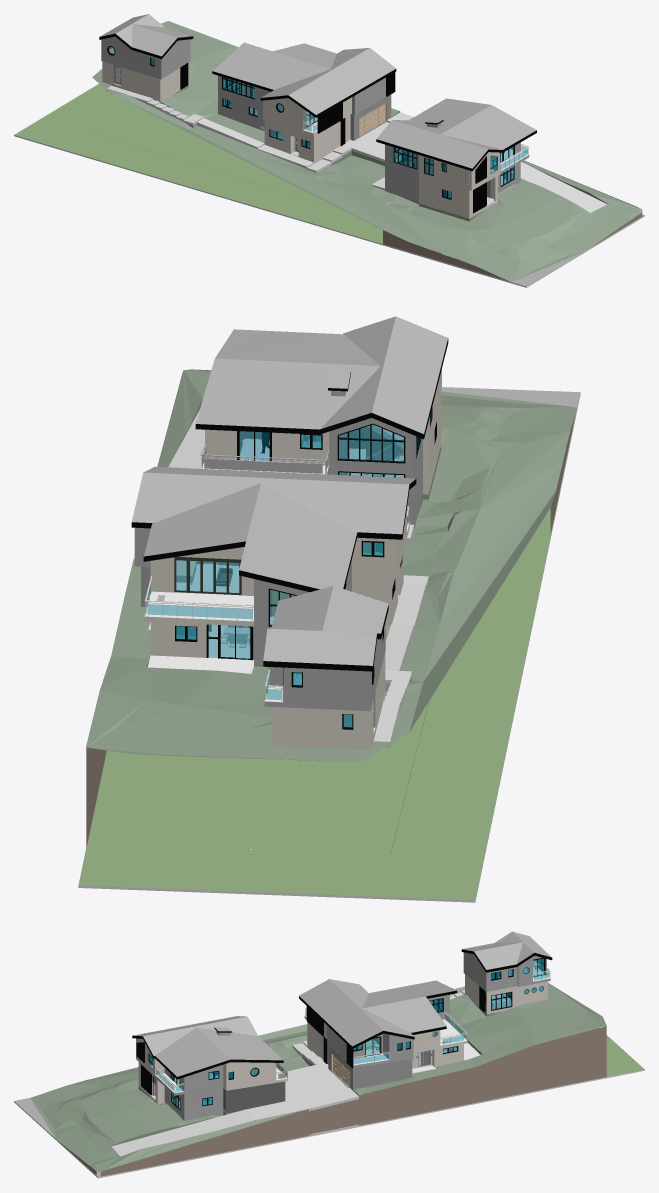
The model's file is dolores.glb.
3 renders of one model, top to bottom at view 1: azimuth 30°, elevation 25°; view 2: azimuth 150°, elevation 25°; view 3: azimuth 270°, elevation 25°, orthographic. The views are drawn at different scales.
Visible parts, largest first — view 1: Site_-_Grass, RP-Grass, Roofing_-_Metal_Standing_Seam, REJ_-_Finish_-_Stucco, MATERIAL_NOT_DEFINED, REJ_-_CAST_IN_PLACE_-_VERTICAL, _ACCURENDER\Solid_Colors\Black,Matte, Glass, Pine_Wood, RP-Earth, Cherry, world (+2 smaller); view 2: RP-Grass, Roofing_-_Metal_Standing_Seam, Site_-_Grass, REJ_-_Finish_-_Stucco, REJ_-_CAST_IN_PLACE_-_VERTICAL, MATERIAL_NOT_DEFINED, Glass, _ACCURENDER\Solid_Colors\Black,Matte, Balcony-1, RP-Default, Glass_-_NanaWall_-_Generic, RP-Earth (+4 smaller); view 3: Site_-_Grass, RP-Earth, Roofing_-_Metal_Standing_Seam, MATERIAL_NOT_DEFINED, REJ_-_CAST_IN_PLACE_-_VERTICAL, REJ_-_Finish_-_Stucco, _ACCURENDER\Solid_Colors\Black,Matte, Glass, Metal_-_Paint_Finish_-_Dark_Gray,_Matte, Dark_Gray, Pine_Wood, Balcony-1 (+4 smaller).
Part boxes in pixels (box(x1,y1,x2,y2)): Site_-_Grass: box(92, 21, 642, 281); RP-Grass: box(14, 84, 447, 258); Roofing_-_Metal_Standing_Seam: box(100, 14, 536, 173); REJ_-_Finish_-_Stucco: box(102, 61, 500, 218); MATERIAL_NOT_DEFINED: box(14, 67, 644, 287); REJ_-_CAST_IN_PLACE_-_VERTICAL: box(101, 36, 529, 201); _ACCURENDER\Solid_Colors\Black,Matte: box(99, 33, 536, 186); Glass: box(109, 47, 527, 198); Pine_Wood: box(180, 62, 486, 213); RP-Earth: box(383, 162, 642, 281); Cherry: box(359, 102, 450, 197); world: box(109, 47, 512, 196); RP-Grass: box(78, 426, 573, 900); Roofing_-_Metal_Standing_Seam: box(131, 316, 447, 665); Site_-_Grass: box(86, 369, 576, 762); REJ_-_Finish_-_Stucco: box(144, 369, 441, 749); REJ_-_CAST_IN_PLACE_-_VERTICAL: box(134, 418, 422, 711); MATERIAL_NOT_DEFINED: box(78, 392, 580, 902); Glass: box(146, 411, 431, 727); _ACCURENDER\Solid_Colors\Black,Matte: box(131, 330, 448, 729); Balcony-1: box(144, 462, 409, 702); RP-Default: box(200, 444, 328, 474); Glass_-_NanaWall_-_Generic: box(176, 560, 238, 592); RP-Earth: box(86, 369, 575, 848); Site_-_Grass: box(31, 983, 606, 1171); RP-Earth: box(60, 1026, 606, 1176); Roofing_-_Metal_Standing_Seam: box(134, 931, 551, 1076); MATERIAL_NOT_DEFINED: box(14, 967, 644, 1178); REJ_-_CAST_IN_PLACE_-_VERTICAL: box(155, 952, 550, 1120); REJ_-_Finish_-_Stucco: box(136, 974, 547, 1132); _ACCURENDER\Solid_Colors\Black,Matte: box(132, 949, 552, 1110); Glass: box(149, 958, 549, 1108); Metal_-_Paint_Finish_-_Dark_Gray,_Matte: box(328, 1045, 412, 1090); Dark_Gray: box(223, 1081, 285, 1114); Pine_Wood: box(136, 986, 485, 1095); Balcony-1: box(155, 975, 550, 1092).
Size of the model in its own units: 46.89 by 11.75 by 67.94.
